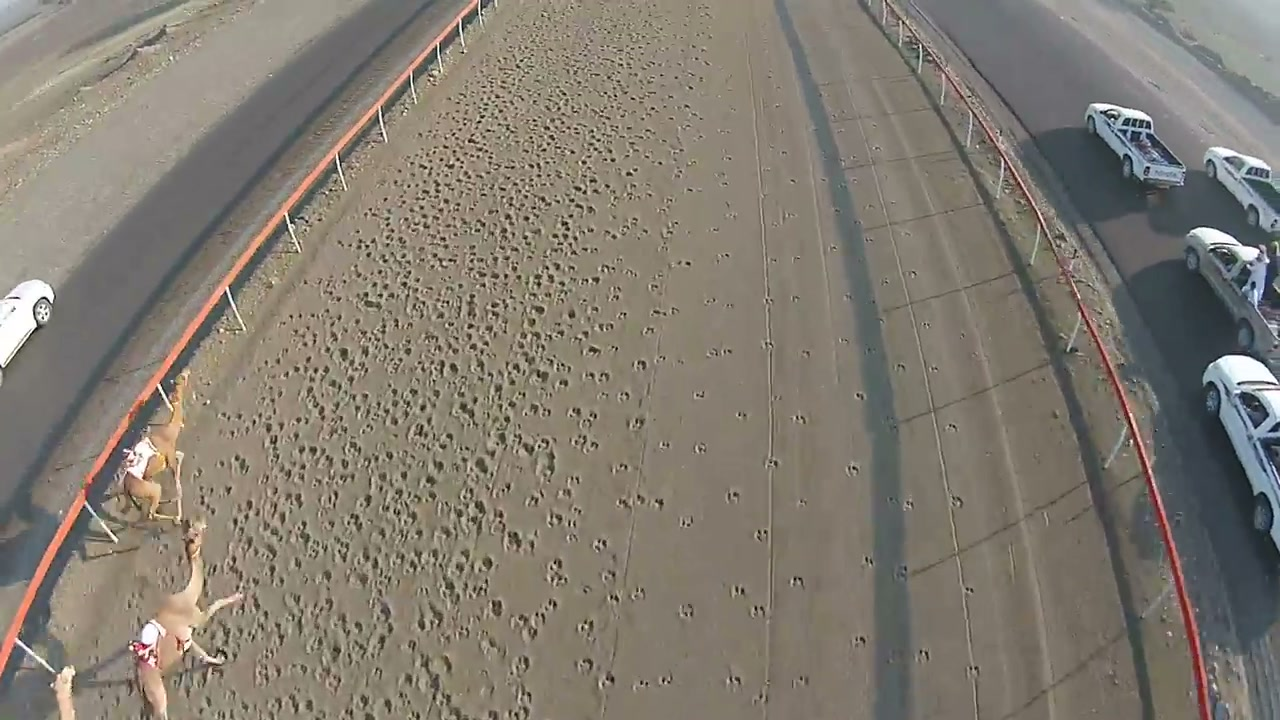animal_footprint: (188, 31, 611, 719), (599, 87, 940, 693), (577, 56, 649, 255)
